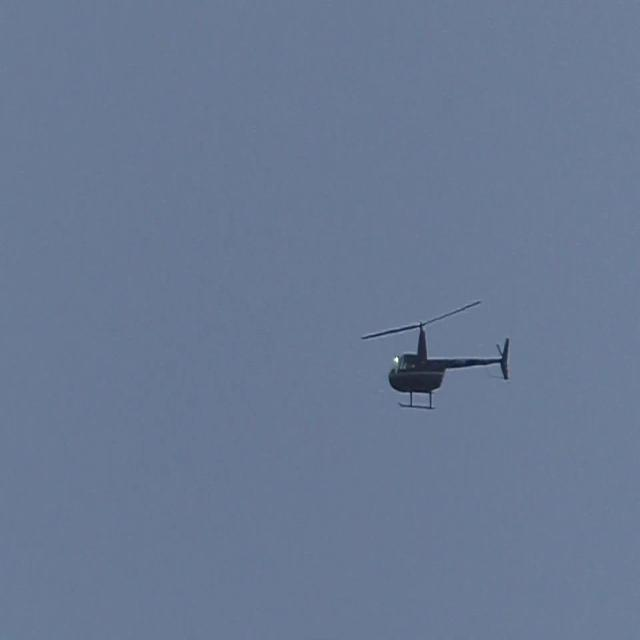CIV_HELO: (388, 320, 510, 412)
